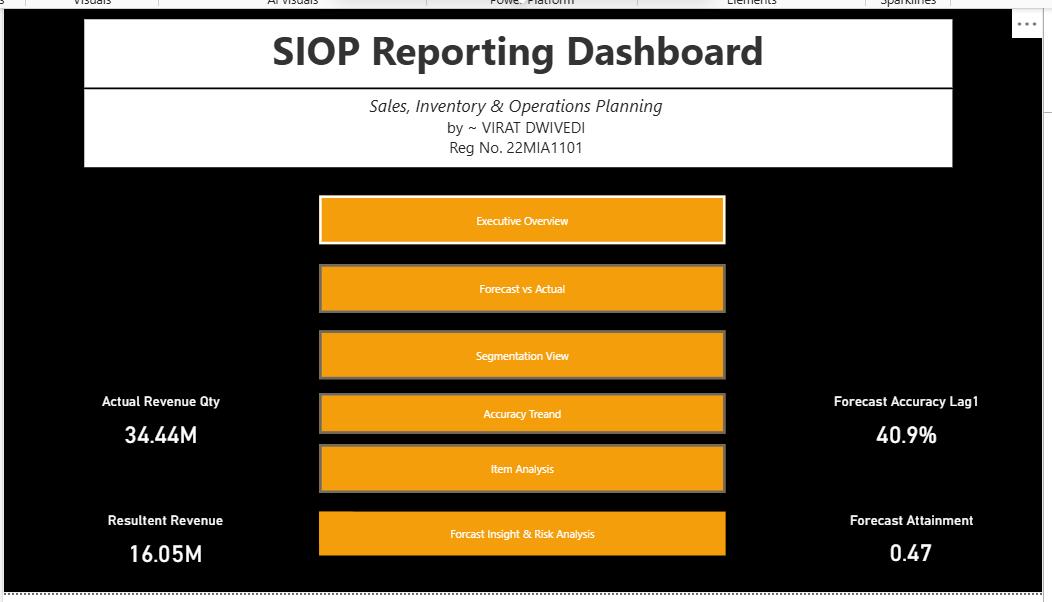

This screenshot's page, from the dashboard's own definition file:
{"tool":"powerbi","page":{"name":"Executive Summary","canvas":[1280,720],"ordinal":6},"visuals":[{"type":"shape","box":[0,0,1280.3,720.2],"z":0},{"type":"textbox","box":[100,14.3,1068.6,84.3],"z":1000},{"type":"textbox","box":[100,100,1068.6,95.7],"z":2000},{"type":"actionButton","box":[390,231.4,500,60],"z":3000},{"type":"actionButton","box":[390,315.7,500,60],"z":4000},{"type":"actionButton","title":"Segmentation View","box":[390,397.1,500,60],"z":5000},{"type":"actionButton","title":"Accuracy Trend","box":[390,474.3,500,50],"z":6000},{"type":"actionButton","title":"Item Analysis","box":[390.1,536.8,500.1,59.9],"z":7000},{"type":"card","title":"Resultent Revenue","fields":{"Values":["Sum(ForecastWide.Resultant Revenue Forecast)"]},"box":[100,620,200,80],"z":8000},{"type":"card","title":"Actual Revenue Qty","fields":{"Values":["Sum(ForecastWide.Actual Revenue Qty)"]},"box":[100,474,189.3,80],"z":9000},{"type":"card","title":"Forecast Accuracy Lag1","fields":{"Values":["ForecastWide.Forecast Accuracy Lag1"]},"box":[1012.6,474,200,80],"z":10000},{"type":"card","title":"Forecast Attainment","fields":{"Values":["Actual.Forecast Attainment"]},"box":[1012.6,620.2,210.8,80],"z":11000},{"type":"textbox","box":[389.3,620.2,41.5,40],"z":11001},{"type":"actionButton","title":"F","box":[389.3,620.2,500.1,53.9],"z":11002}]}

Visuals, with their boxes in screenshot pixels (x1, y1, x2, y2):
shape: l=0, t=5, r=1038, b=589
textbox: l=81, t=17, r=947, b=85
textbox: l=81, t=87, r=947, b=164
actionButton: l=316, t=193, r=721, b=242
actionButton: l=316, t=261, r=721, b=310
"Segmentation View" actionButton: l=316, t=327, r=721, b=376
"Accuracy Trend" actionButton: l=316, t=390, r=721, b=430
"Item Analysis" actionButton: l=316, t=441, r=722, b=489
"Resultent Revenue" card: l=81, t=508, r=243, b=573
"Actual Revenue Qty" card: l=81, t=390, r=234, b=455
"Forecast Accuracy Lag1" card: l=821, t=390, r=983, b=455
"Forecast Attainment" card: l=821, t=508, r=992, b=573
textbox: l=316, t=508, r=349, b=541
"F" actionButton: l=316, t=508, r=721, b=552
